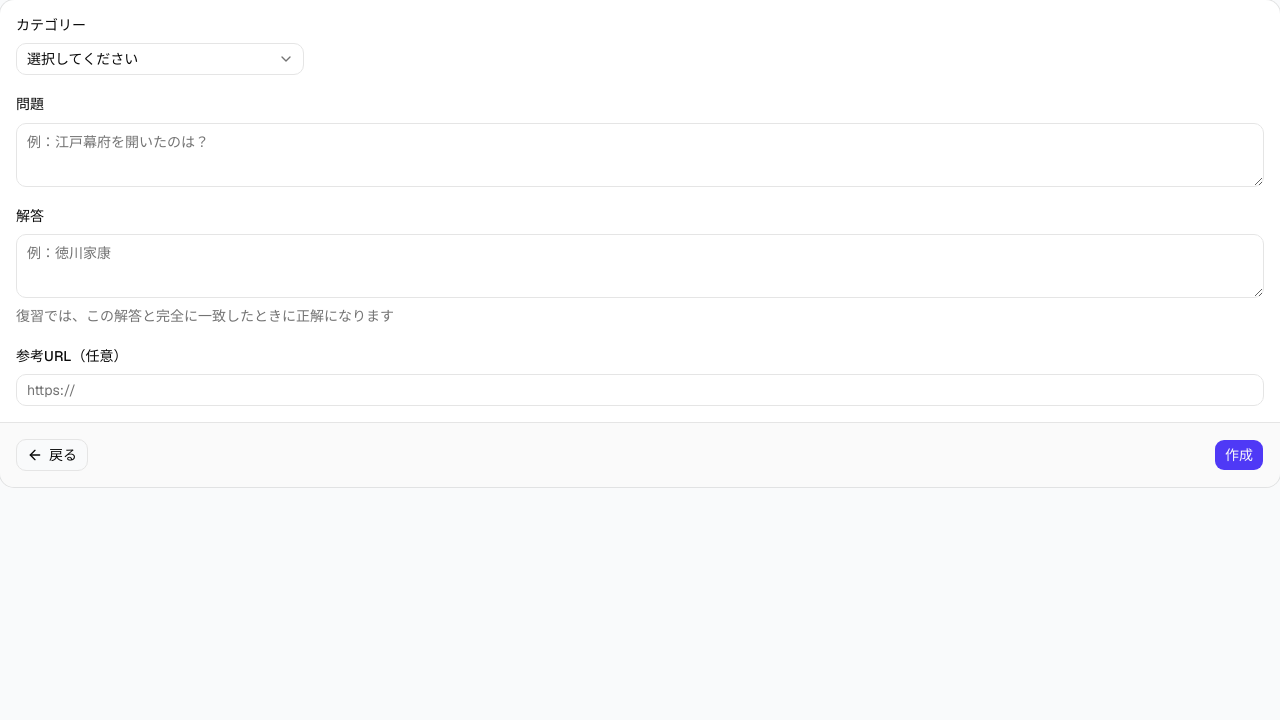
it: QuestionForm › アクションが入力エラーを返すと、各項目のエラーメッセージと入力値を表示する
The width and height of the screenshot is (1280, 720).
Click the button "作成" at (1239, 455), box [1214,439,1264,471]
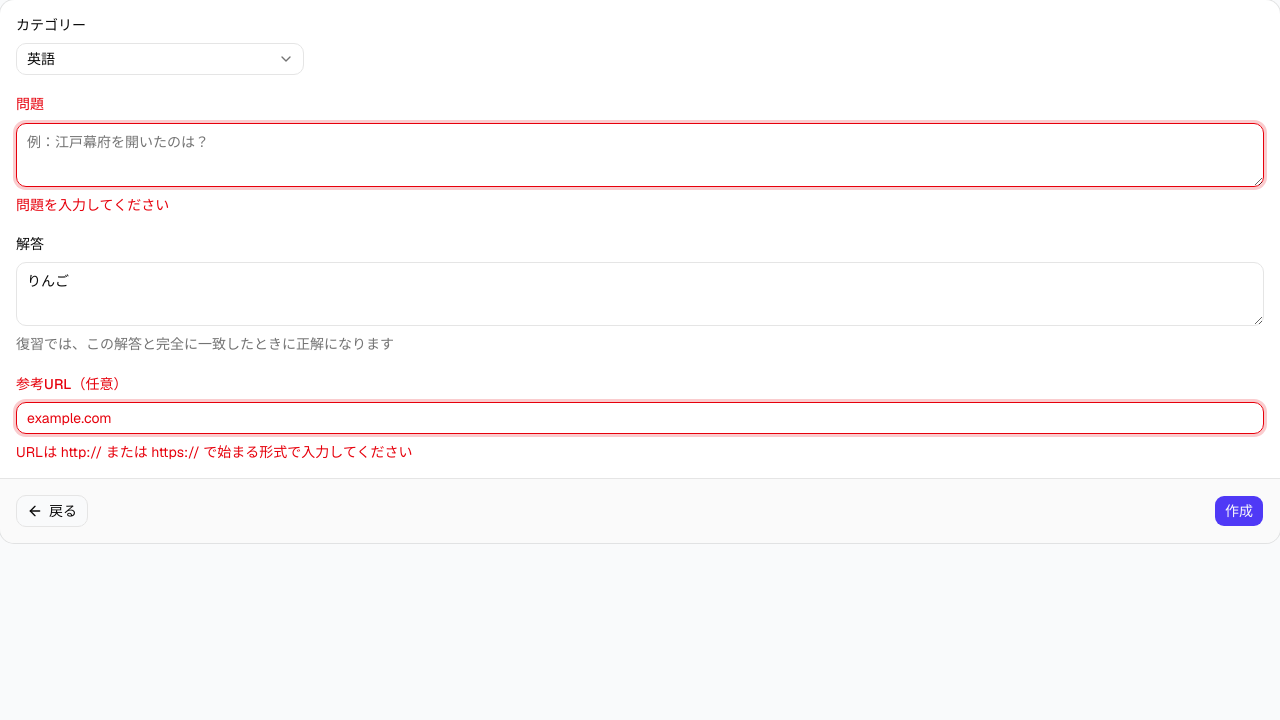
expect the text "問題を入力してください" is shown: met, box [16,196,169,214]
expect the text "URLは http:// または https:// で始まる形式で入力してください" is shown: met, box [16,443,412,461]
expect the text box labelled "解答" holds "りんご": met, box [16,262,1264,326]
